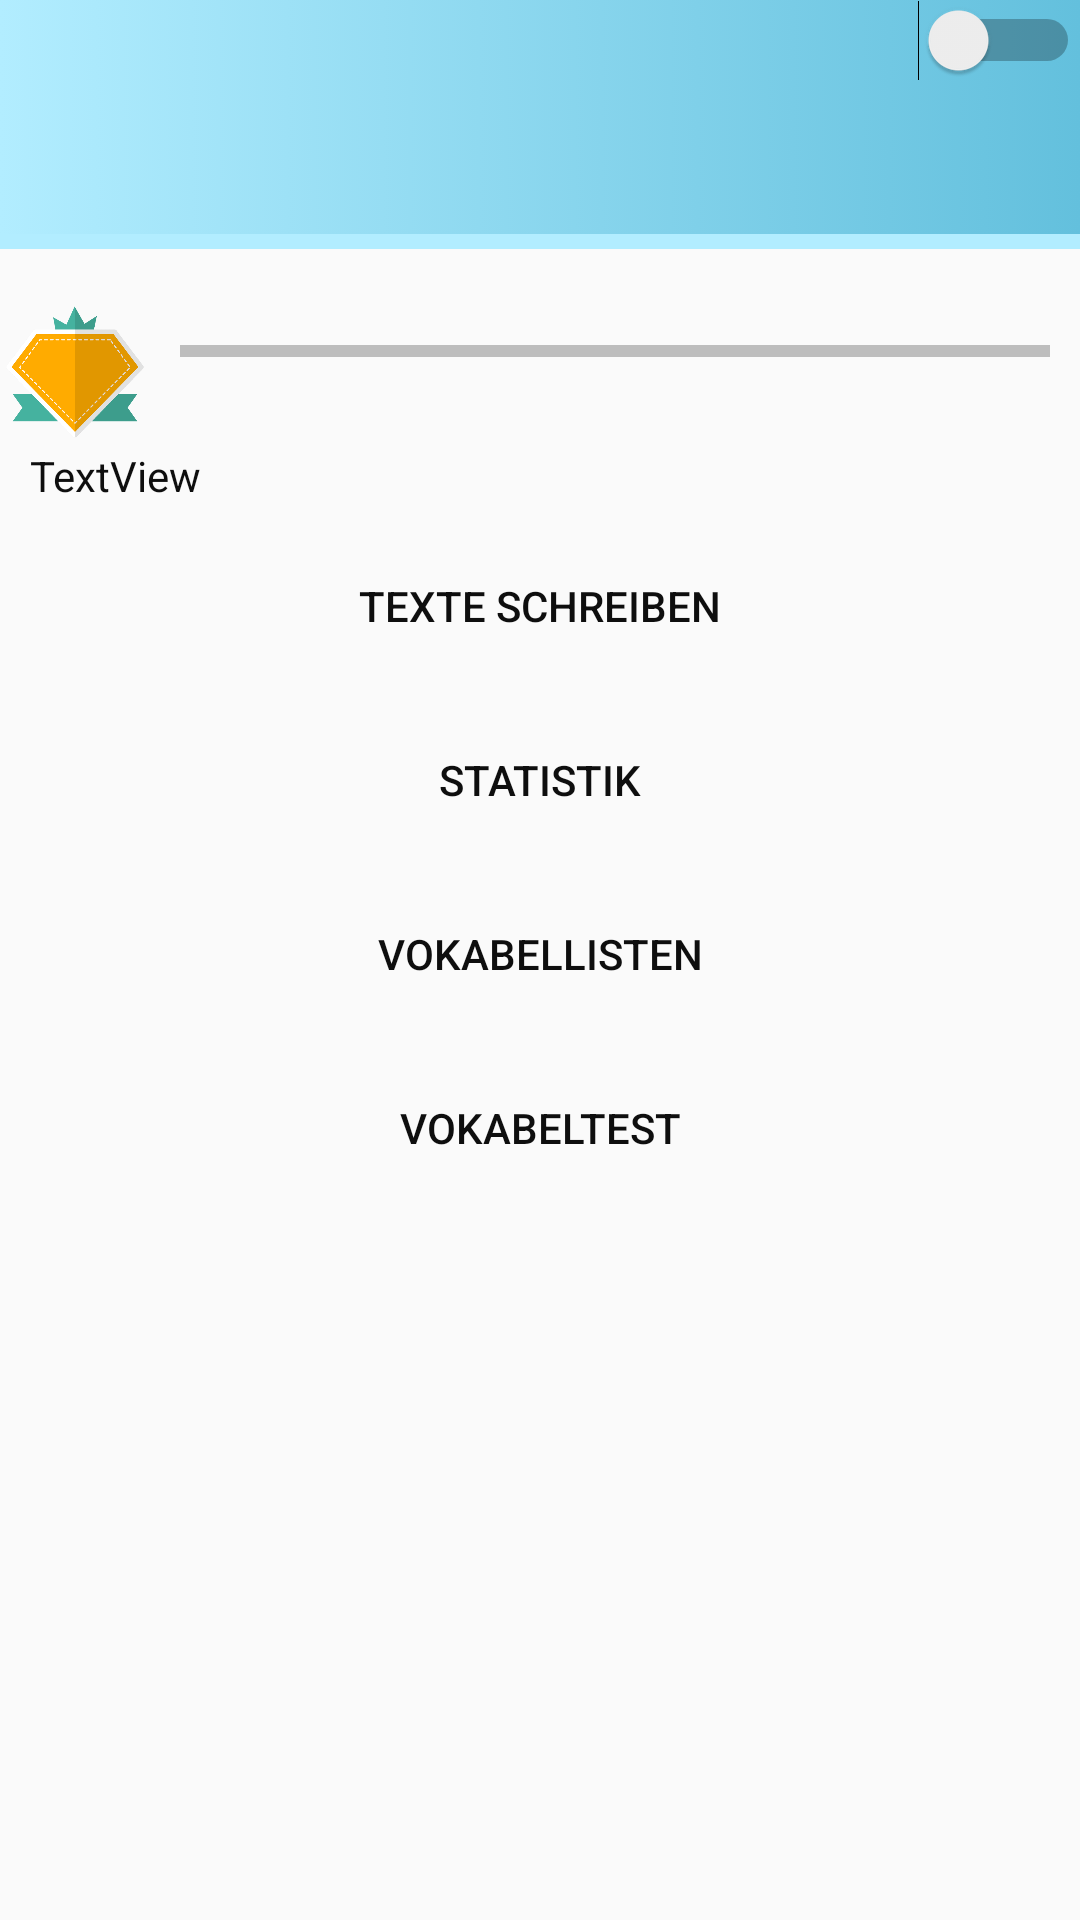

Where to tap for icons on this 1080*1920 app screen, as [x,y]:
badge: [77,372]
